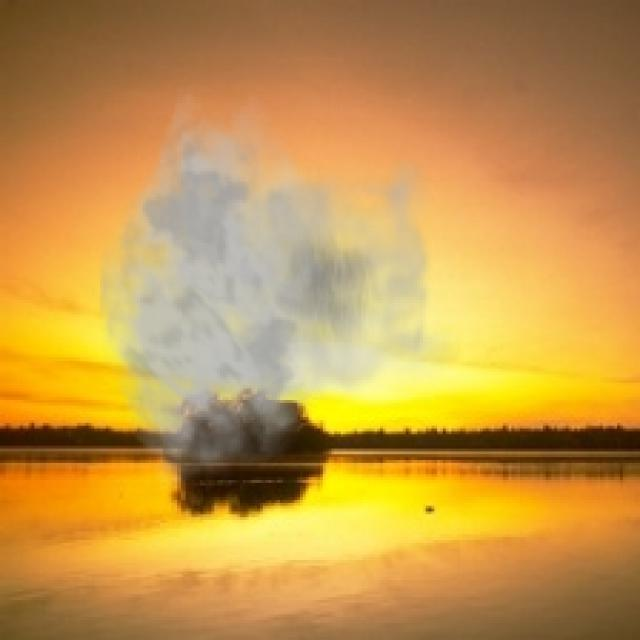Smoke: (97, 86, 463, 488)
